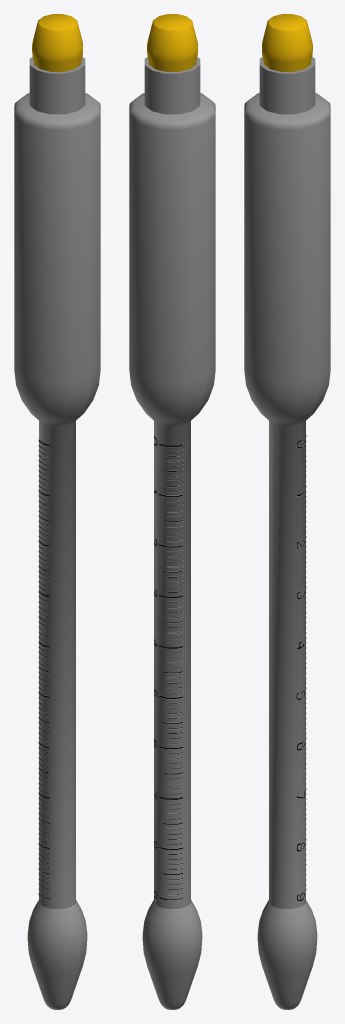
The model's file is SM_盖勃乳脂计.FBX.
3 renders of one model, left to right at view 1: azimuth 90°, elevation 25°; view 2: azimuth 150°, elevation 25°; view 3: azimuth 270°, elevation 25°, orthographic.
Parts seen in each view (by area): view 1: SM_G盖勃乳脂计, SM_G盖勃乳脂计盖, SM_G盖勃乳脂计刻度; view 2: SM_G盖勃乳脂计, SM_G盖勃乳脂计刻度, SM_G盖勃乳脂计盖; view 3: SM_G盖勃乳脂计, SM_G盖勃乳脂计盖, SM_G盖勃乳脂计刻度.
Part boxes in pixels (x1,y1,x2,y2): SM_G盖勃乳脂计: (14,56,100,1009); SM_G盖勃乳脂计盖: (32,14,82,71); SM_G盖勃乳脂计刻度: (38,439,49,899); SM_G盖勃乳脂计: (129,57,215,1009); SM_G盖勃乳脂计刻度: (154,436,183,900); SM_G盖勃乳脂计盖: (147,14,197,71); SM_G盖勃乳脂计: (244,56,330,1009); SM_G盖勃乳脂计盖: (262,14,312,71); SM_G盖勃乳脂计刻度: (296,435,306,901).
Bounding box in the file's own units: 1.53 × 1.53 × 19.22.
